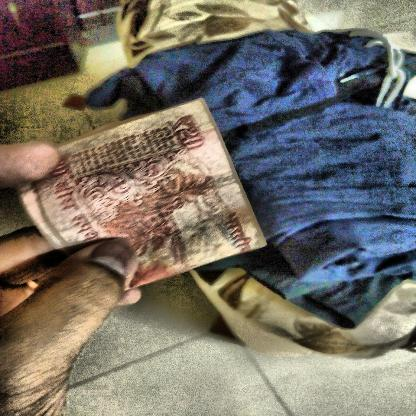Rs20: (167, 112, 211, 156)
